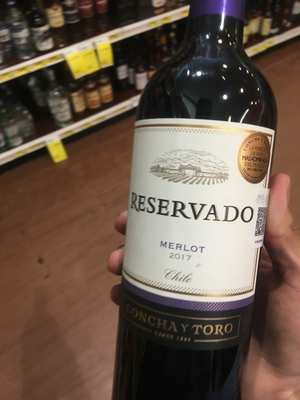reservado merlot: (116, 13, 277, 394)
